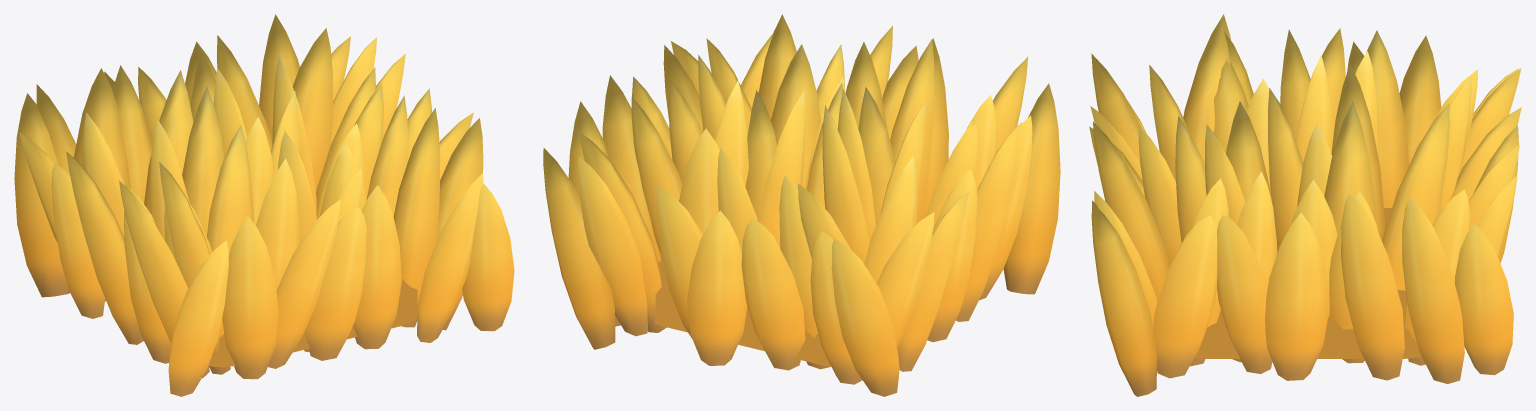
The model's file is grass_a.glb.
3 views of the same model, side by side, from view 1: azimuth 30°, elevation 25°; view 2: azimuth 150°, elevation 25°; view 3: azimuth 270°, elevation 25° (orthographic). The views are drawn at different scales.
Parts seen in each view (by area): view 1: grass_a; view 2: grass_a; view 3: grass_a.
Part boxes in pixels (box(x1,y1,x2,y2)): grass_a: box(14, 14, 514, 396); grass_a: box(543, 14, 1060, 396); grass_a: box(1089, 14, 1521, 396).
Size of the model in its own units: 1.07 by 0.661 by 1.07.
1 material, 1 textured.
